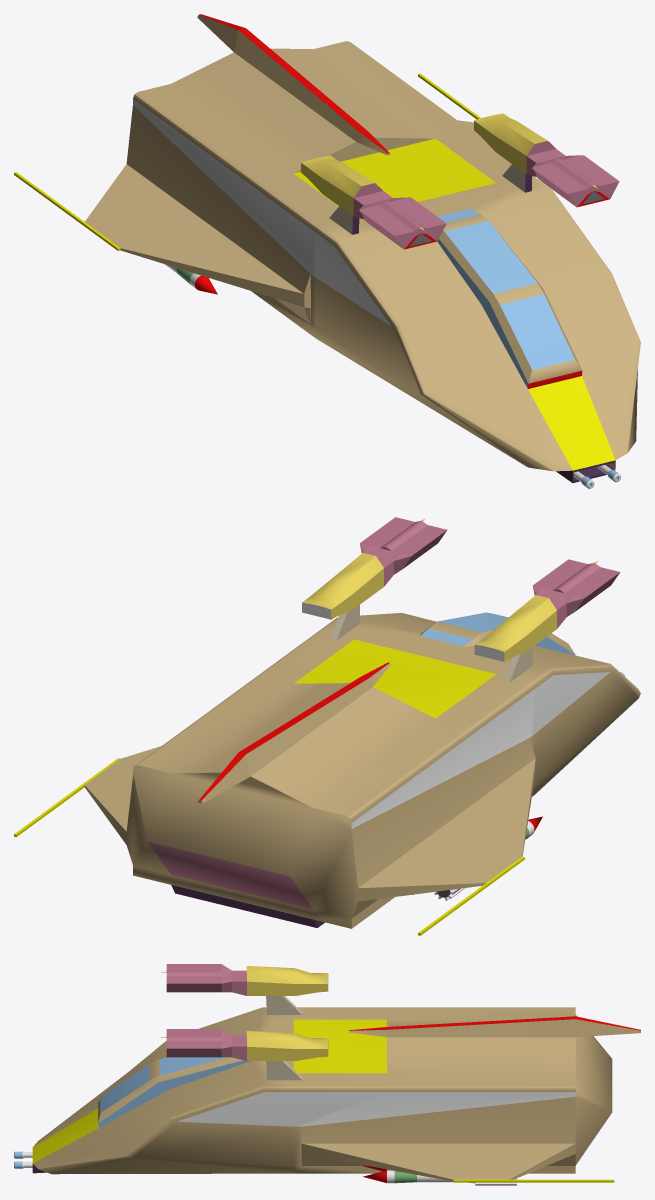
The model's file is Dummy_heavy_drone_fbx.fbx.
3 renders of one model, top to bottom at view 1: azimuth 30°, elevation 25°; view 2: azimuth 150°, elevation 25°; view 3: azimuth 270°, elevation 25°, orthographic. The views are drawn at different scales.
Parts seen in each view (by area): view 1: Dummy_heavy_drone, Drone_Rifle (×2); view 2: Dummy_heavy_drone, Drone_Rifle (×2); view 3: Dummy_heavy_drone, Drone_Rifle (×2), Rocket_4, Drone_Gun_1, Drone_Gun_2.
Boxes of the visible parts, x1,y1,x2,y2 form: Dummy_heavy_drone: (14, 14, 640, 482); Drone_Rifle (×2): (301, 113, 619, 249); Dummy_heavy_drone: (14, 612, 640, 935); Drone_Rifle (×2): (302, 517, 620, 661); Dummy_heavy_drone: (32, 1007, 640, 1182); Drone_Rifle (×2): (161, 964, 328, 1060); Rocket_4: (362, 1170, 516, 1185); Drone_Gun_1: (266, 1061, 302, 1080); Drone_Gun_2: (266, 996, 302, 1014).
Size of the model in its own units: 2.23 by 1.12 by 3.86.
